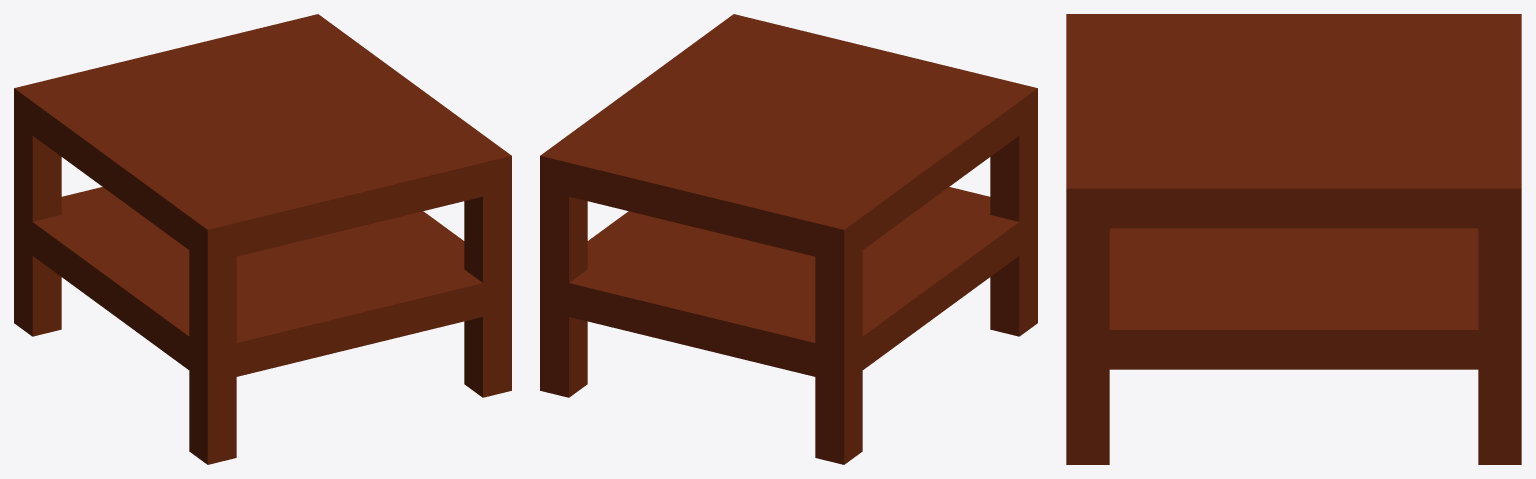
The model's file is smalltable_nice_1.FBX.
The picture shows the model from 3 angles, left to right: view 1: azimuth 30°, elevation 25°; view 2: azimuth 150°, elevation 25°; view 3: azimuth 270°, elevation 25°; orthographic projection. The views are drawn at different scales.
Visible parts, largest first — view 1: smalltable_good_1; view 2: smalltable_good_1; view 3: smalltable_good_1.
Boxes of the visible parts, bbox=[...] form: smalltable_good_1: bbox=[14, 14, 511, 464]; smalltable_good_1: bbox=[540, 14, 1037, 464]; smalltable_good_1: bbox=[1066, 14, 1521, 464].
Bounding box in the file's own units: 31.24 × 34.46 × 23.07.
